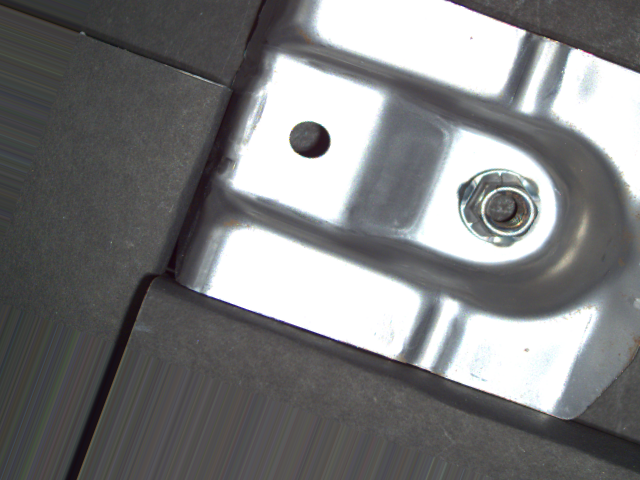good: (455, 161, 546, 251)
